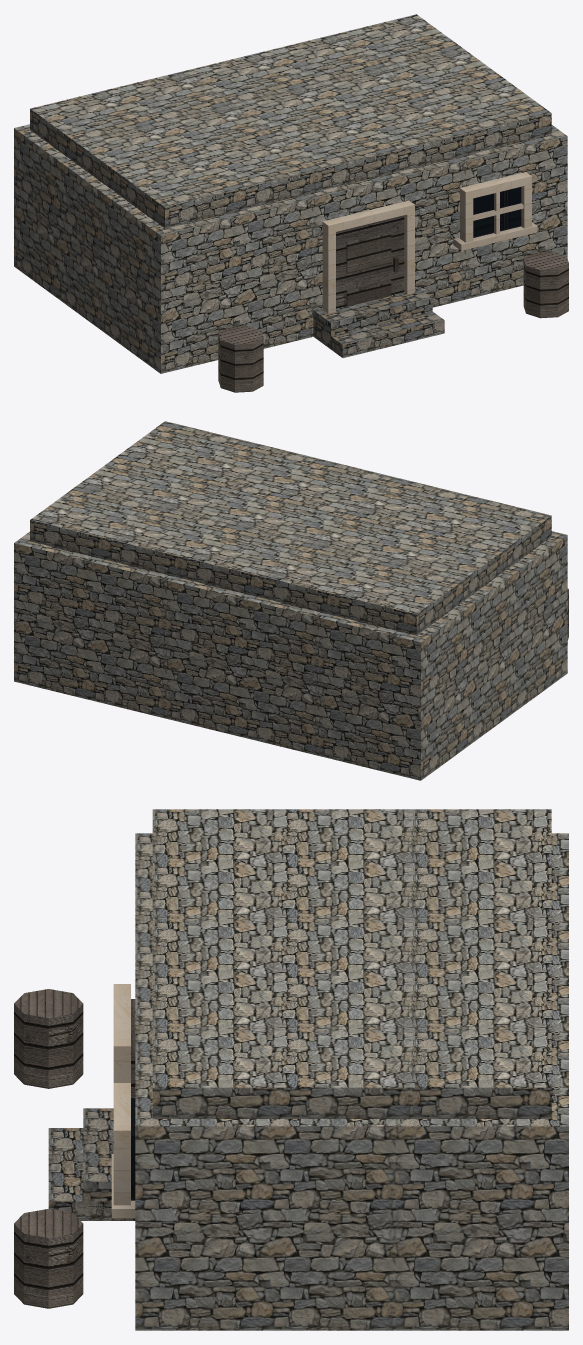
File: root-cellar_lod0.gltf
The picture shows the model from 3 angles, top to bottom: view 1: azimuth 30°, elevation 25°; view 2: azimuth 150°, elevation 25°; view 3: azimuth 270°, elevation 25°; orthographic projection. The views are drawn at different scales.
Parts seen in each view (by area): view 1: root-cellar_main, root-cellar__berm_cap, root-cellar_fen_04-limestone_0, root-cellar_fen_18-timber-siding_1, root-cellar__step_b, root-cellar__barrel_a, root-cellar__barrel_b, root-cellar__step_a, root-cellar_fen_18-timber-siding_2_t, root-cellar_fen_07-glass-curtain-blue_4_t; view 2: root-cellar_main, root-cellar__berm_cap; view 3: root-cellar__berm_cap, root-cellar_main, root-cellar__barrel_a, root-cellar__barrel_b, root-cellar_fen_04-limestone_0, root-cellar__step_a, root-cellar__step_b.
Part boxes in pixels (bbox=[...]): root-cellar_main: bbox=[14, 124, 567, 373]; root-cellar__berm_cap: bbox=[30, 14, 551, 228]; root-cellar_fen_04-limestone_0: bbox=[322, 172, 537, 313]; root-cellar_fen_18-timber-siding_1: bbox=[336, 215, 404, 308]; root-cellar__step_b: bbox=[313, 285, 432, 349]; root-cellar__barrel_a: bbox=[218, 325, 263, 392]; root-cellar__barrel_b: bbox=[523, 251, 568, 318]; root-cellar__step_a: bbox=[313, 311, 444, 357]; root-cellar_fen_18-timber-siding_2_t: bbox=[346, 230, 391, 306]; root-cellar_fen_07-glass-curtain-blue_4_t: bbox=[473, 187, 521, 237]; root-cellar_main: bbox=[14, 531, 567, 780]; root-cellar__berm_cap: bbox=[30, 421, 551, 635]; root-cellar__berm_cap: bbox=[152, 809, 551, 1118]; root-cellar_main: bbox=[135, 833, 568, 1330]; root-cellar__barrel_a: bbox=[14, 989, 83, 1088]; root-cellar__barrel_b: bbox=[14, 1208, 83, 1308]; root-cellar_fen_04-limestone_0: bbox=[111, 984, 135, 1218]; root-cellar__step_a: bbox=[48, 1128, 135, 1220]; root-cellar__step_b: bbox=[83, 1108, 134, 1220].
Size of the model in its own units: 8 by 3 by 6.4.
